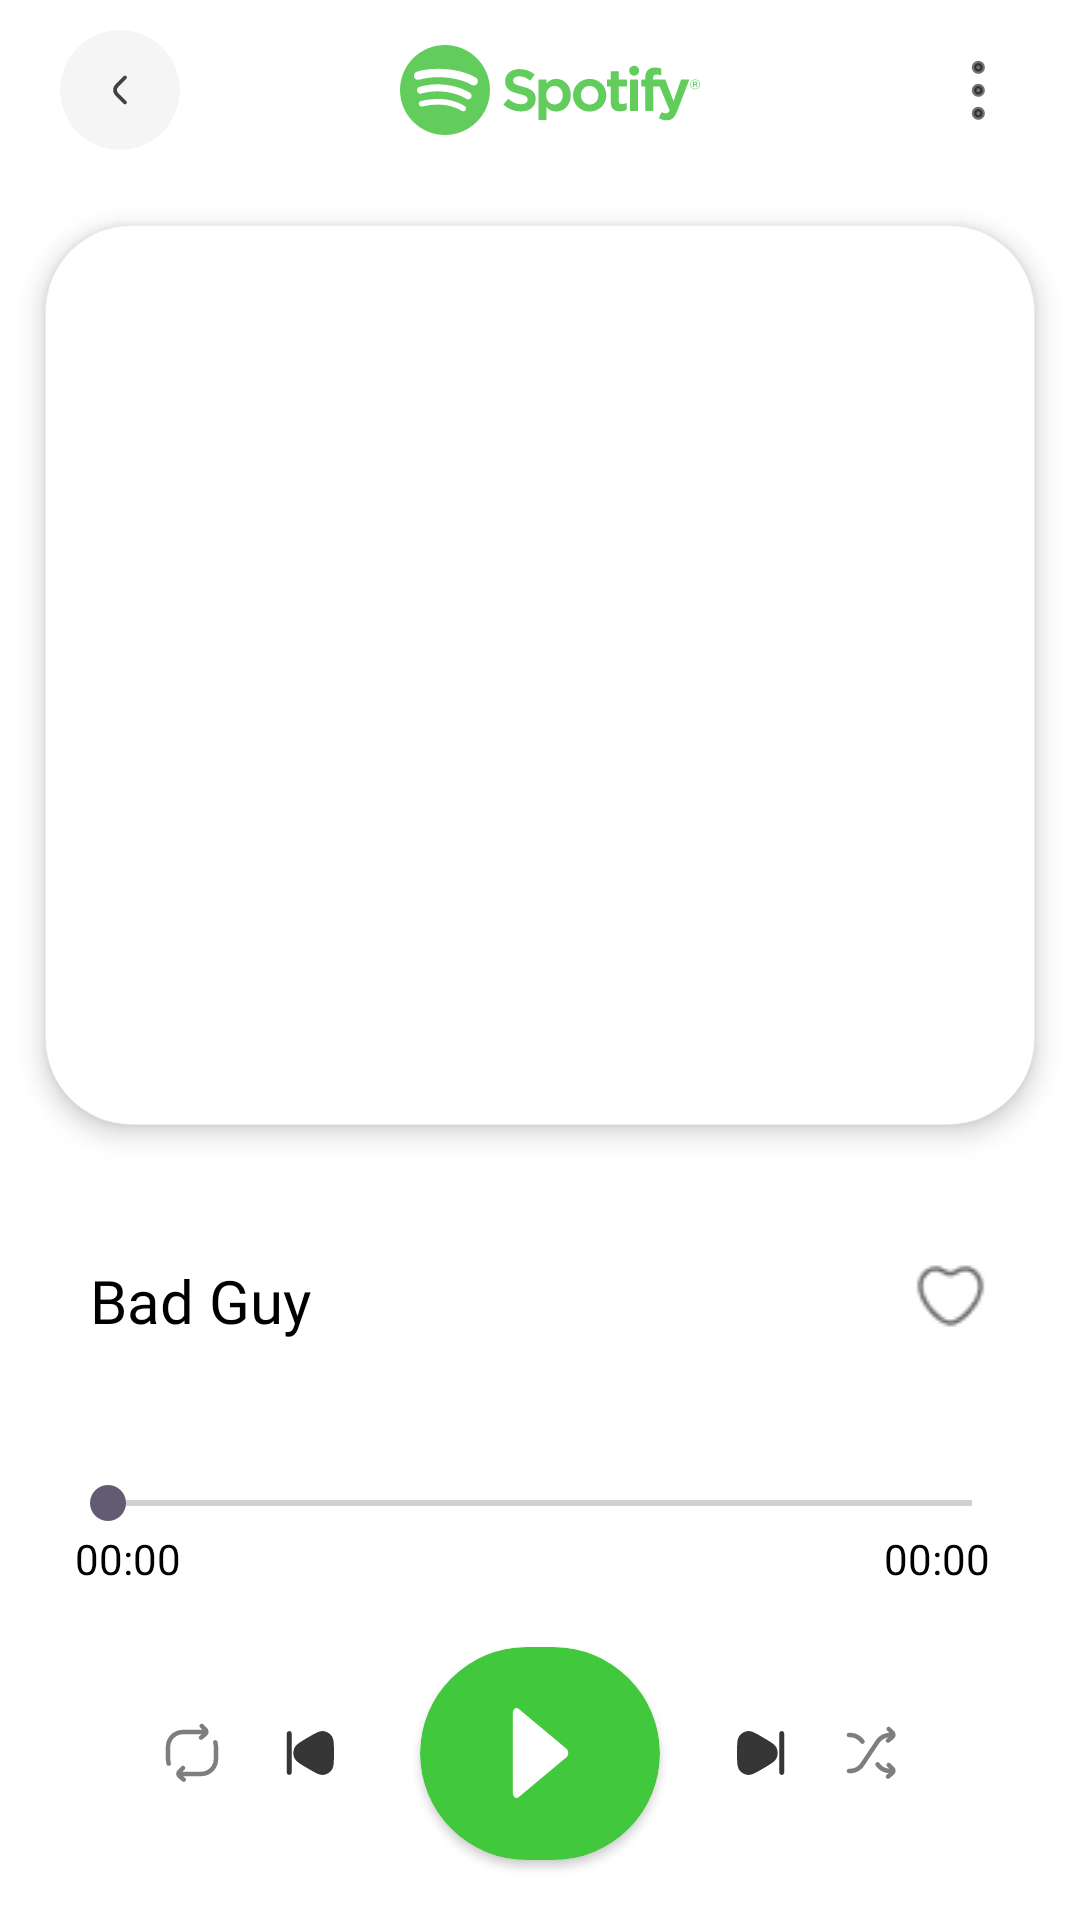

Screen size 1080 x 1920. Icon name, then its center in pixels as point (x, y):
dots menu: point (978, 90)
left: point (120, 90)
next: point (761, 1753)
previous: point (310, 1753)
repeate: point (192, 1752)
shuffle: point (871, 1752)
